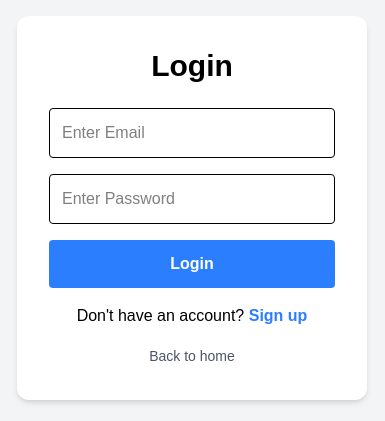
Login Page › should disable button while loading
In the field with placeholder "Enter Email": {"x": 192, "y": 133} [49, 108, 335, 158], type "test@example.com"
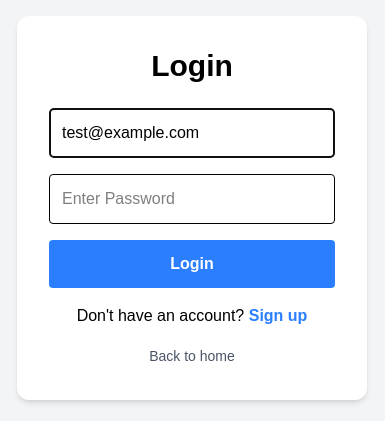
In the password field with placeholder "Enter Password": {"x": 192, "y": 199} [49, 174, 335, 224], type "password123"
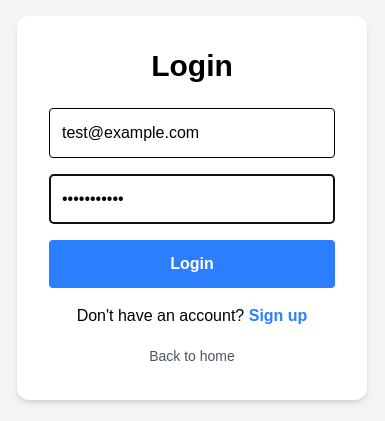
Click the button "Login": {"x": 192, "y": 264} [49, 240, 335, 288]
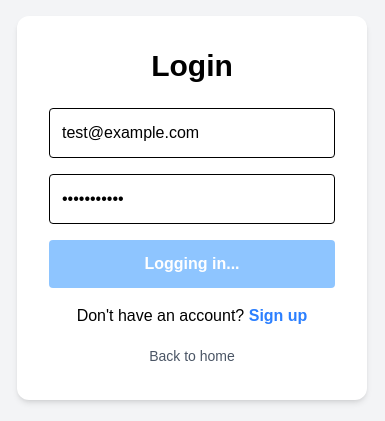
Now the button named "Login" is disabled, box [49, 240, 335, 288]
